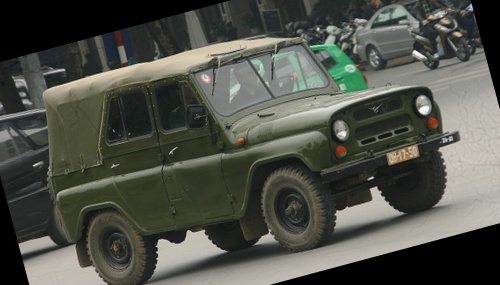plate: (382, 142, 421, 168)
